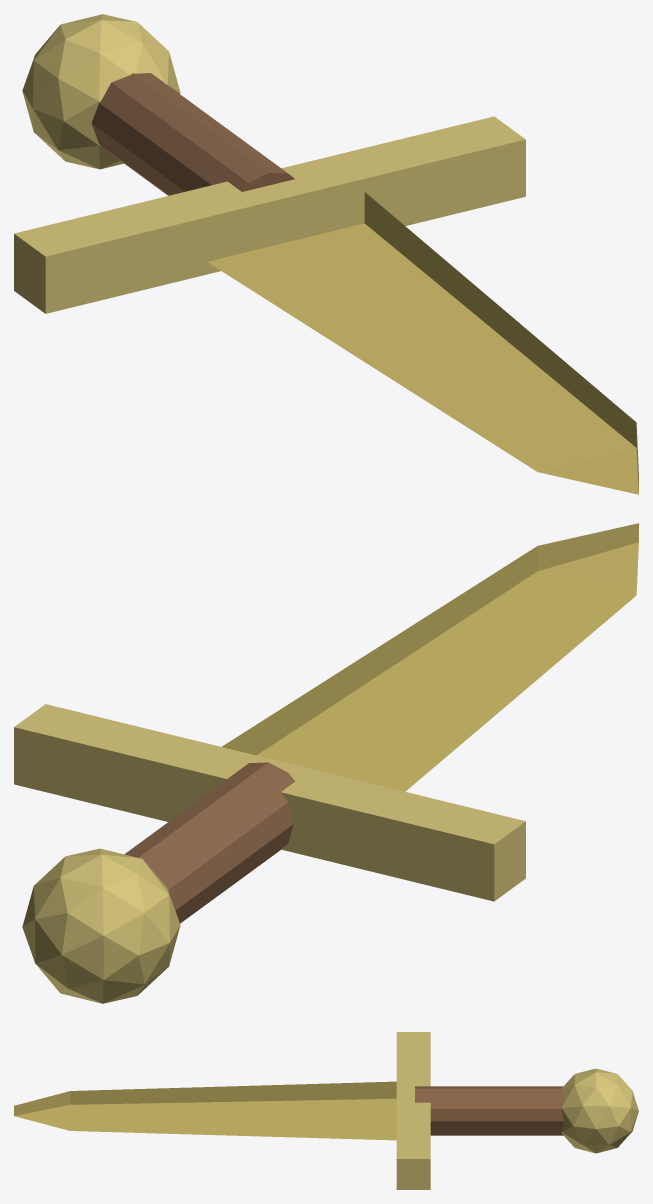
File: short_golden_broadsword.glb
3 renders of one model, top to bottom at view 1: azimuth 30°, elevation 25°; view 2: azimuth 150°, elevation 25°; view 3: azimuth 270°, elevation 25°, orthographic. The views are drawn at different scales.
Visible parts, largest first — view 1: sword_0_0, sword_0_1, sword_0_2, sword_0_3; view 2: sword_0_0, sword_0_1, sword_0_3, sword_0_2; view 3: sword_0_0, sword_0_2, sword_0_1, sword_0_3.
Part boxes in pixels (x1,y1,x2,y2): sword_0_0: (207, 192, 638, 494); sword_0_1: (14, 116, 525, 313); sword_0_2: (91, 73, 294, 195); sword_0_3: (22, 14, 180, 169); sword_0_0: (222, 523, 638, 791); sword_0_1: (14, 704, 525, 901); sword_0_3: (22, 848, 180, 1003); sword_0_2: (124, 762, 294, 923); sword_0_0: (14, 1081, 396, 1140); sword_0_2: (415, 1086, 563, 1135); sword_0_1: (396, 1032, 430, 1189); sword_0_3: (561, 1068, 638, 1153).
Size of the model in its own units: 1.58 by 0.4508 by 3.29.
